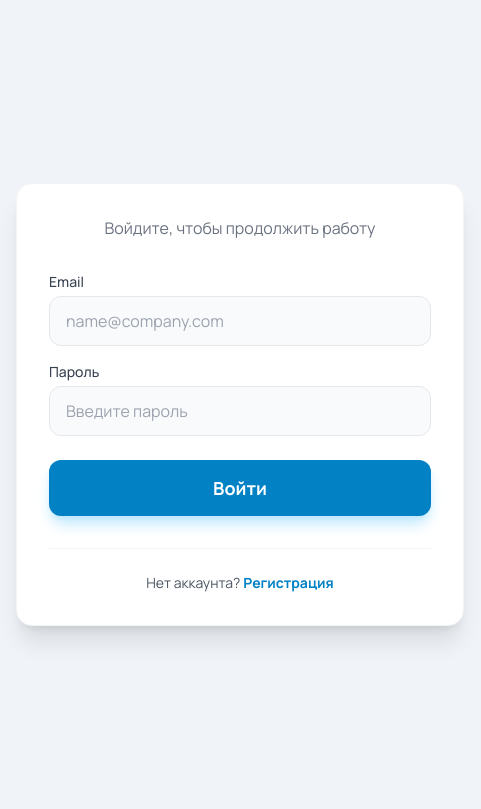
Test: App › renders register page when switching from login
Click the button "Регистрация": [288, 582] box [243,572,334,592]
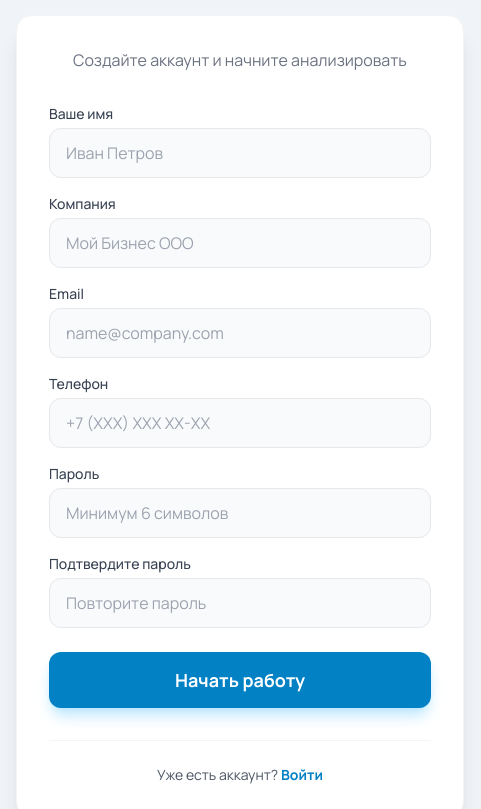
Check: the text "Создайте аккаунт и начните анализировать" is shown, box [49,48,431,72]
